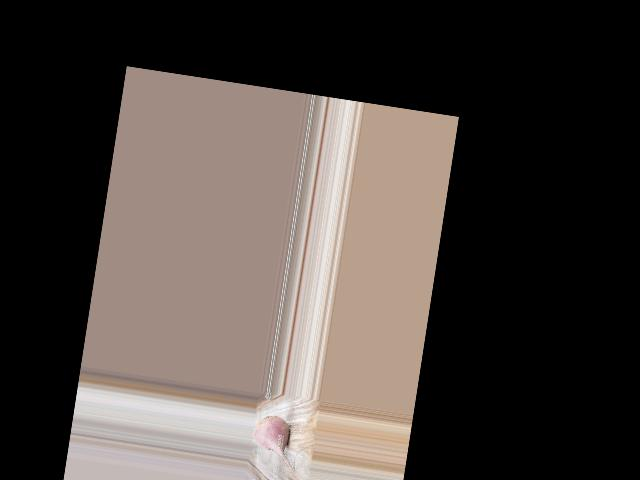beet: (248, 413, 301, 472)
